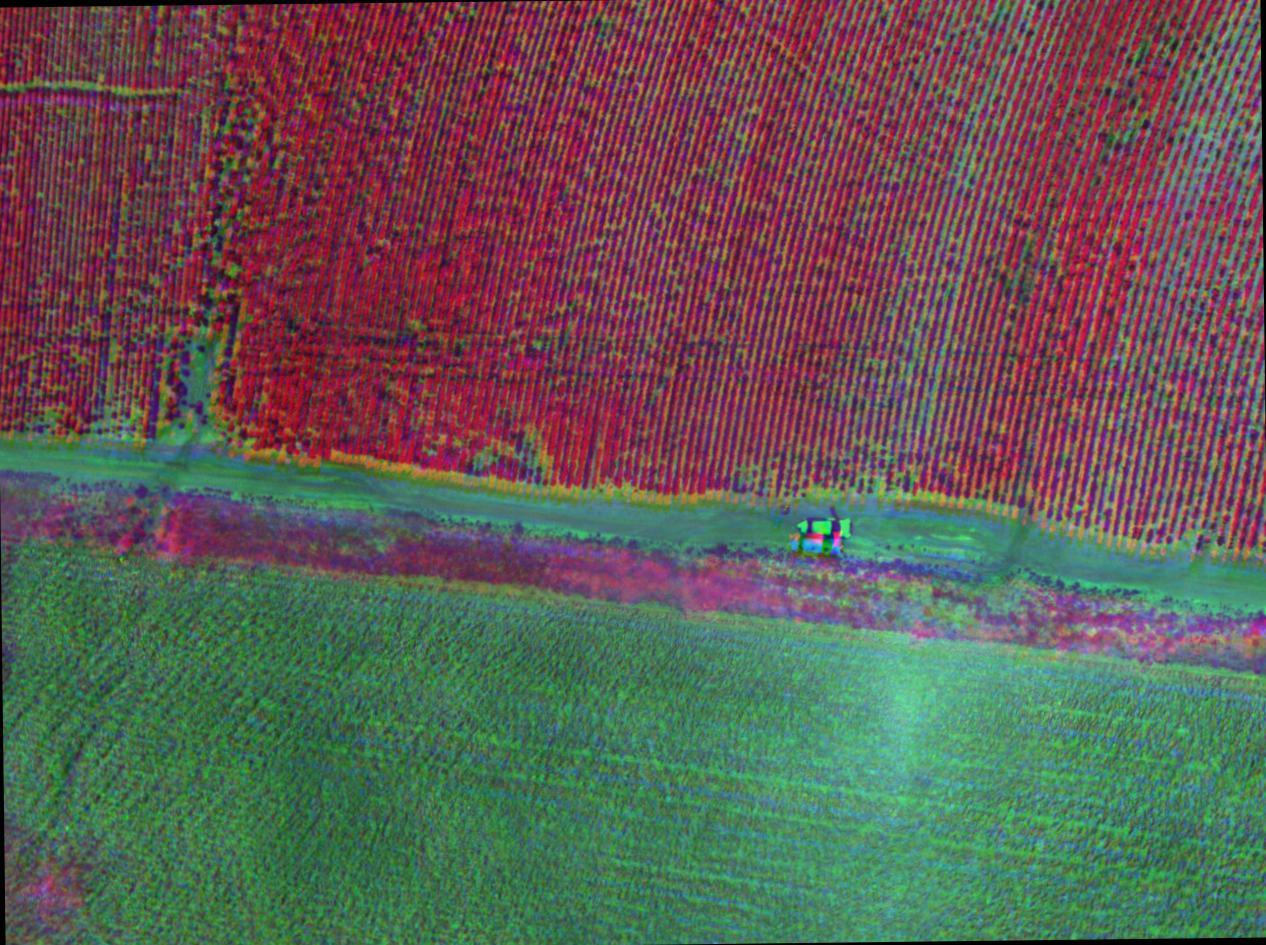dc: (1199, 51, 1266, 137), (164, 332, 228, 398), (808, 462, 915, 501), (148, 400, 215, 439), (88, 394, 133, 431)
